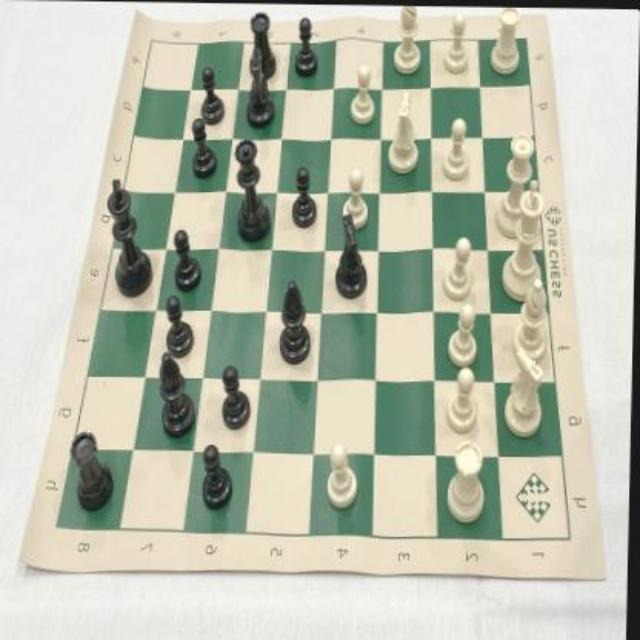black-bishop: (159, 345, 199, 439), (279, 278, 314, 365)
black-king: (105, 172, 157, 298)
black-knight: (332, 214, 375, 300), (244, 44, 279, 127)
black-pawn: (203, 441, 235, 514), (222, 363, 255, 429), (174, 224, 204, 293), (166, 293, 198, 357), (190, 116, 220, 179), (292, 165, 322, 227), (293, 15, 320, 81), (199, 65, 225, 125)
black-queen: (236, 135, 274, 241)
black-rook: (73, 425, 116, 511), (246, 9, 282, 81)
white-bishop: (513, 274, 554, 360), (393, 5, 423, 77)
white-king: (501, 176, 550, 300)
white-knight: (504, 346, 550, 438), (387, 88, 423, 176)
white-pawn: (327, 439, 363, 511), (446, 362, 481, 434), (443, 233, 479, 296), (348, 60, 380, 126), (442, 116, 474, 180), (443, 9, 473, 75), (450, 299, 480, 365), (344, 164, 371, 230)
white-queen: (494, 127, 540, 239)
white-rook: (449, 432, 491, 520), (487, 7, 527, 73)
